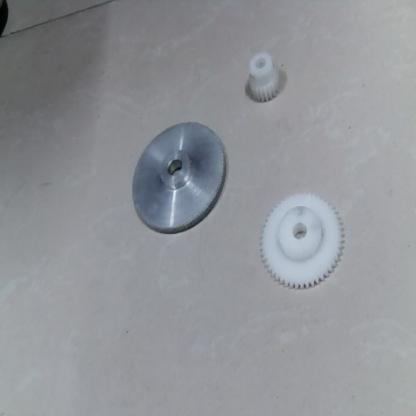FOD: (131, 118, 228, 236), (257, 195, 347, 294), (243, 49, 285, 108)
